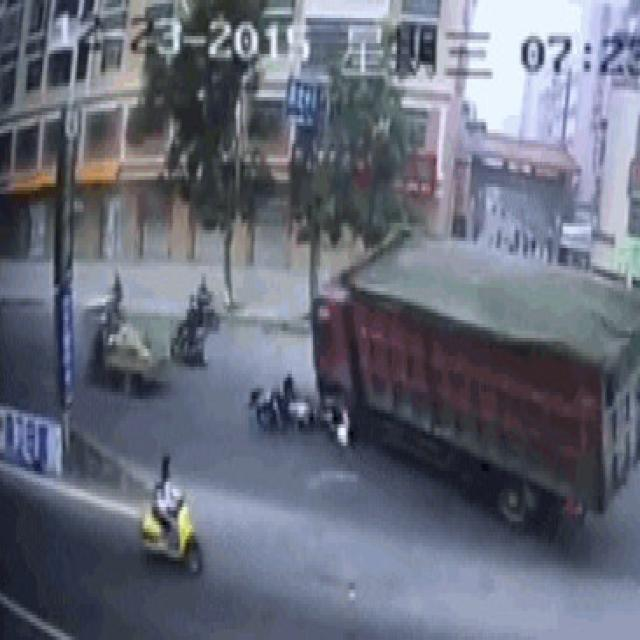multiple_accident: (248, 215, 640, 563)
normal: (76, 261, 227, 409), (111, 441, 220, 583)
